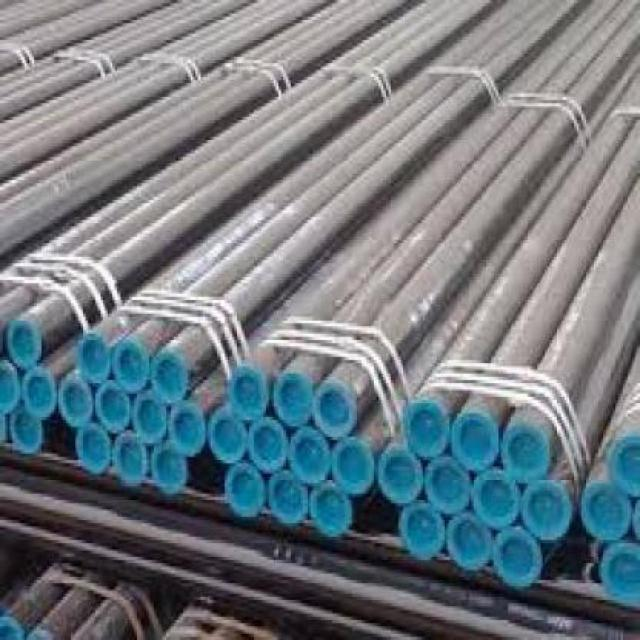pipe: (467, 464, 524, 532), (400, 394, 453, 462), (488, 525, 545, 588), (449, 408, 503, 471), (497, 422, 551, 485), (421, 455, 473, 520), (521, 480, 574, 543), (396, 499, 447, 562), (284, 424, 335, 486), (304, 477, 355, 539), (579, 480, 630, 540), (310, 379, 358, 441), (444, 512, 494, 568), (109, 333, 154, 395), (243, 417, 291, 475), (378, 443, 423, 503), (330, 437, 377, 494), (54, 369, 97, 431), (3, 317, 45, 379), (272, 370, 315, 430), (604, 430, 640, 501), (227, 365, 270, 423), (109, 428, 152, 486), (165, 400, 210, 455), (150, 347, 193, 404), (206, 410, 249, 467), (146, 443, 191, 497), (20, 361, 59, 420), (130, 391, 172, 445), (75, 329, 114, 387), (93, 379, 134, 433), (224, 466, 267, 517), (600, 542, 640, 595), (74, 424, 114, 477), (268, 471, 307, 525), (11, 409, 46, 457), (0, 359, 23, 414)
